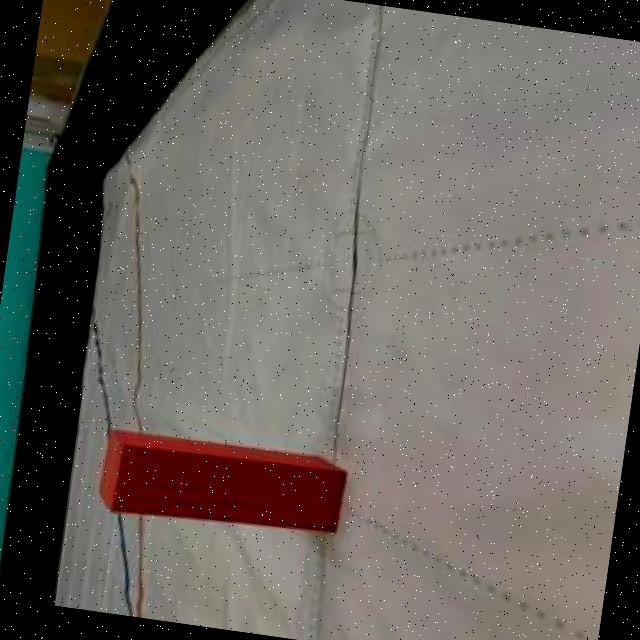redbox: (92, 428, 351, 544)
